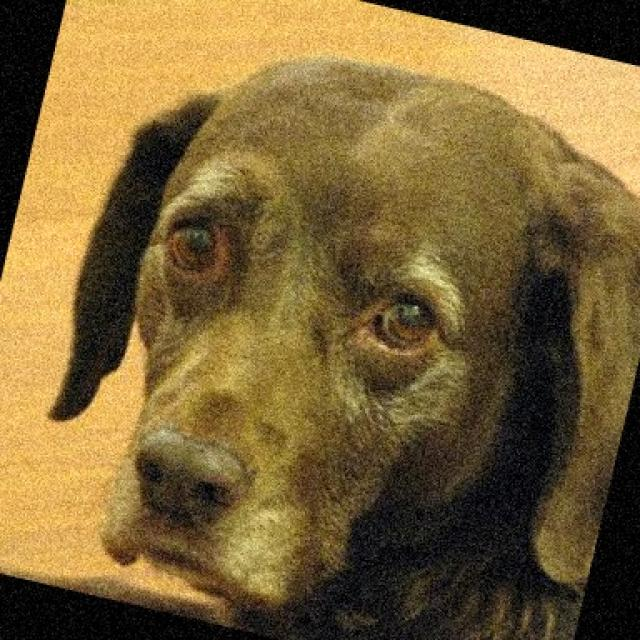sad: (77, 16, 638, 640)
